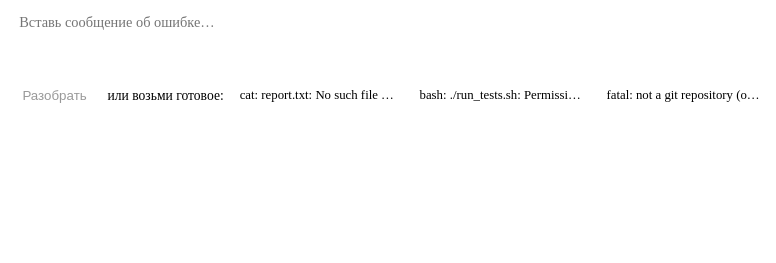
Scenario: click on a known word shows translation line
Click the button "bash: ./run_tests.sh: Permissi…". click: (500, 96)
box: [410,84,590,107]
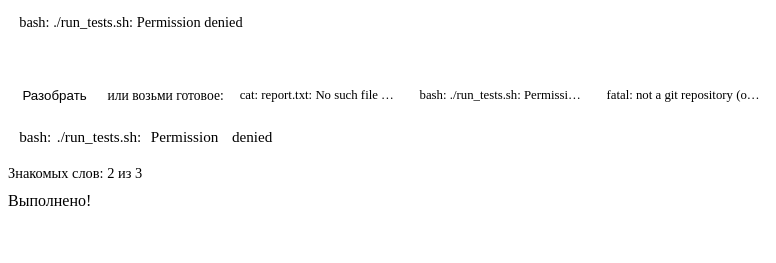
Click the button "Permission". click: (185, 137)
box: [147,128,222,146]
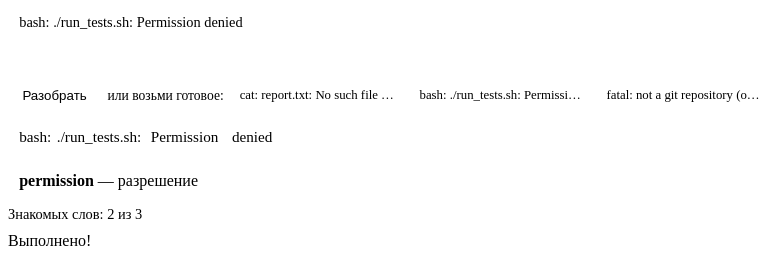
Expected: the text "permission — разрешение" is shown, [19,172,198,188]
